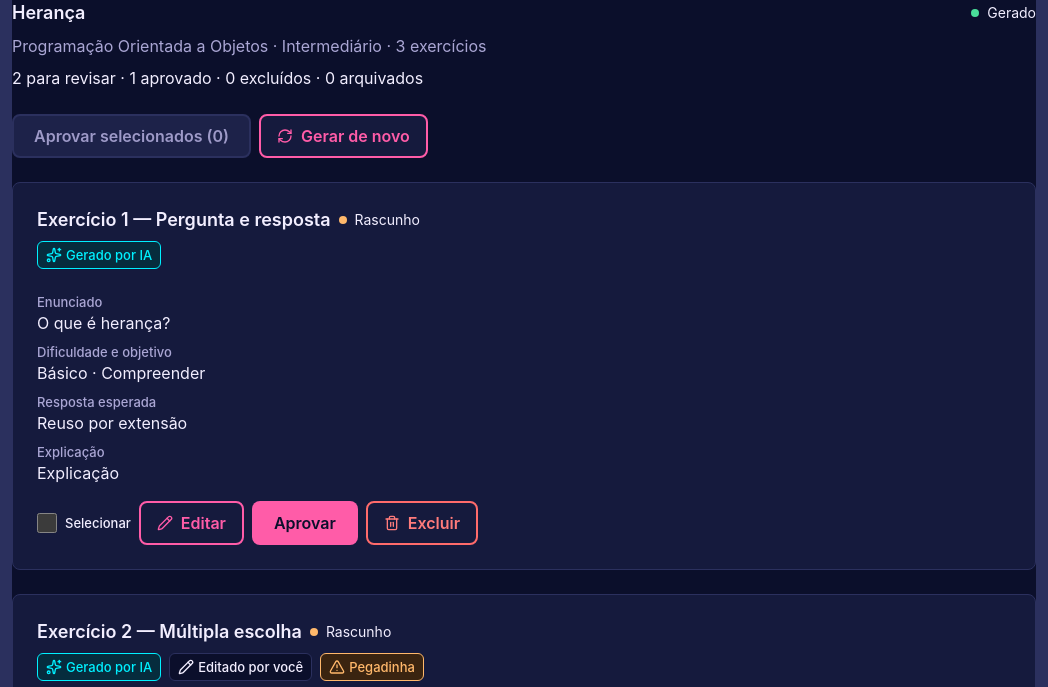
Test: 010/US4 BatchReview — revisar o lote gerado › 010/FR-014 aprova os selecionados de uma vez
Check: the button "Aprovar selecionados (0)" is disabled, box [12, 114, 251, 158]
Click the checkbox named "Selecionar exercício 1": (47, 523) [37, 513, 57, 533]
(page scrolled)
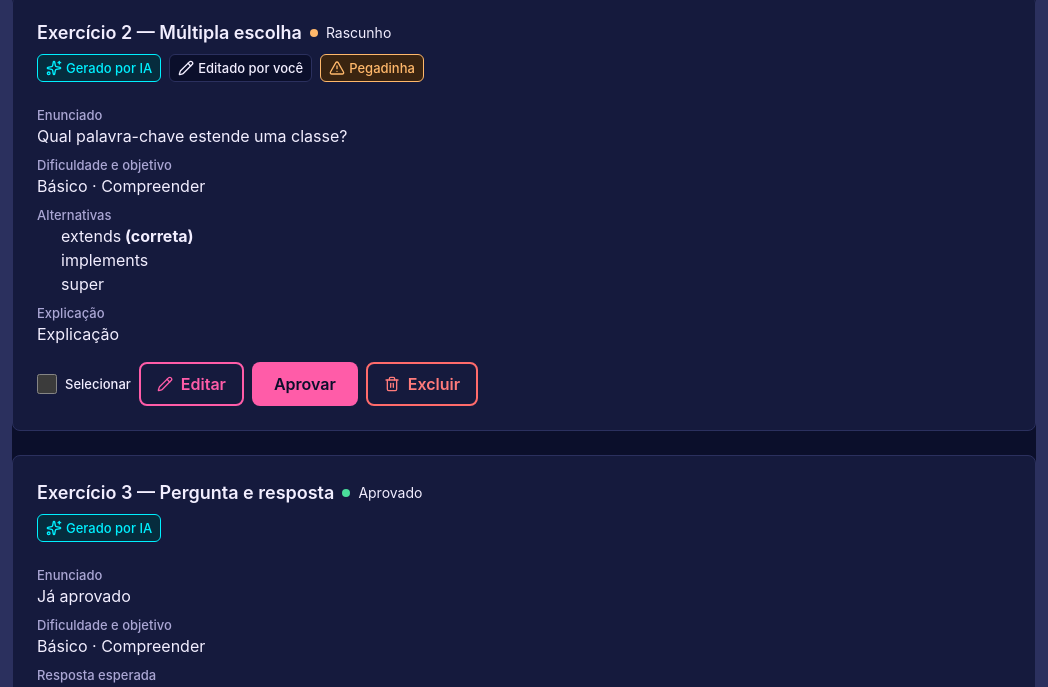
Click the checkbox named "Selecionar exercício 2": (47, 384) [37, 374, 57, 394]
(page scrolled)
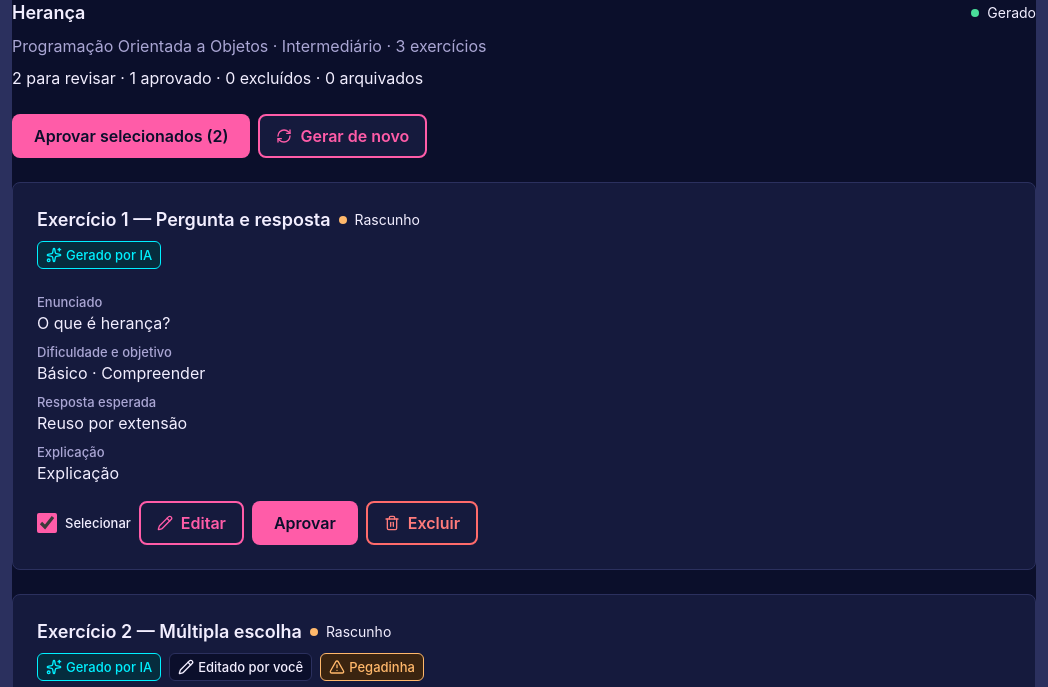
Click the button "Aprovar selecionados (2)": (131, 136) [12, 114, 250, 158]
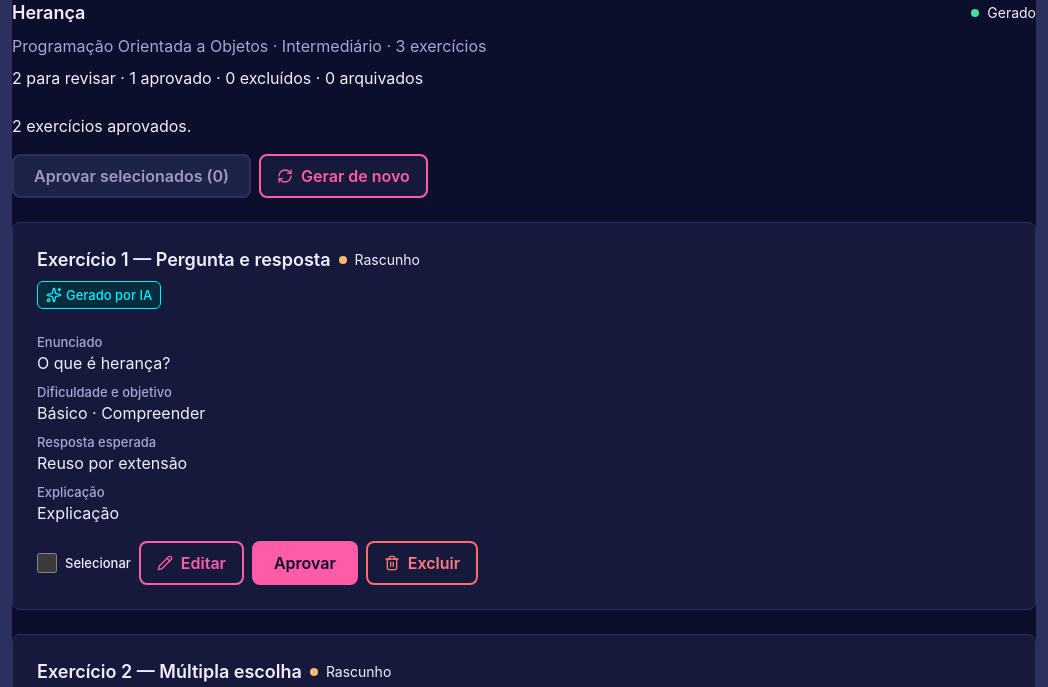
Check: the text "2 exercícios aprovados." is shown, box [12, 116, 191, 136]
